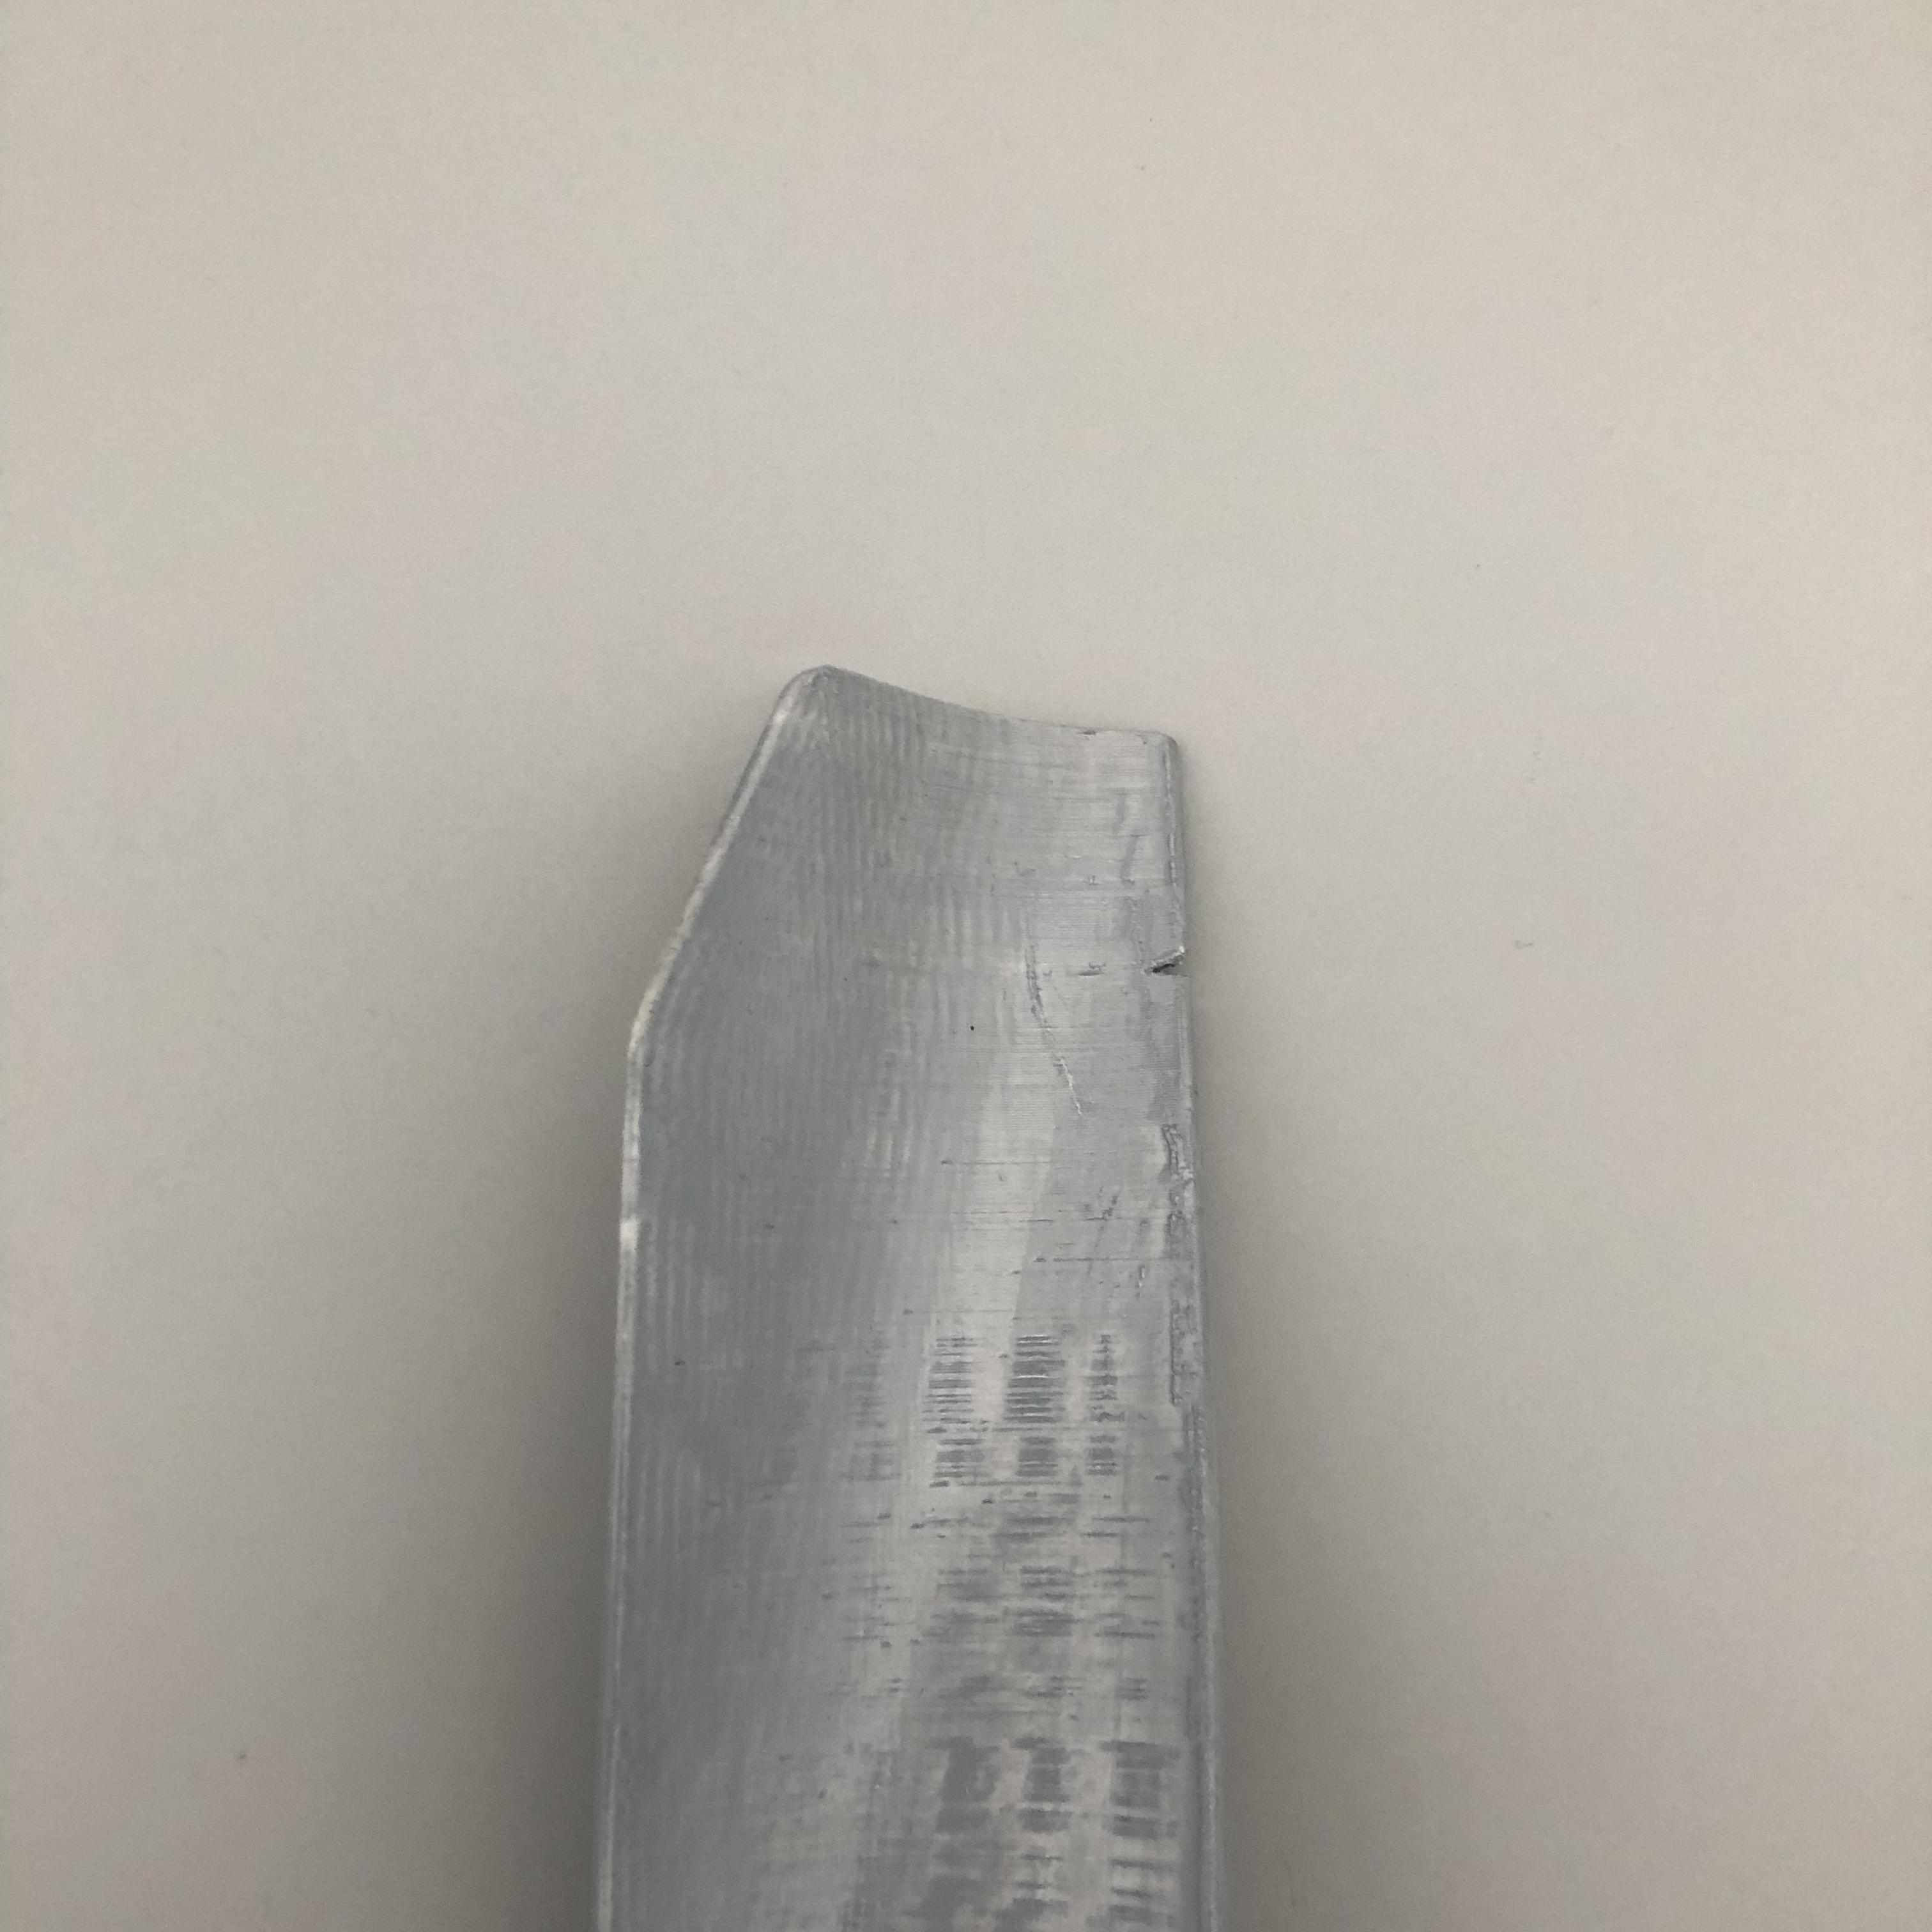groove: (1150, 950, 1187, 989)
